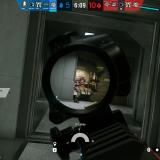Character: (72, 75, 88, 104), (88, 78, 94, 89)
Friend_label: (100, 40, 107, 46), (88, 72, 94, 77)
Head: (81, 76, 85, 80), (90, 77, 92, 80)
